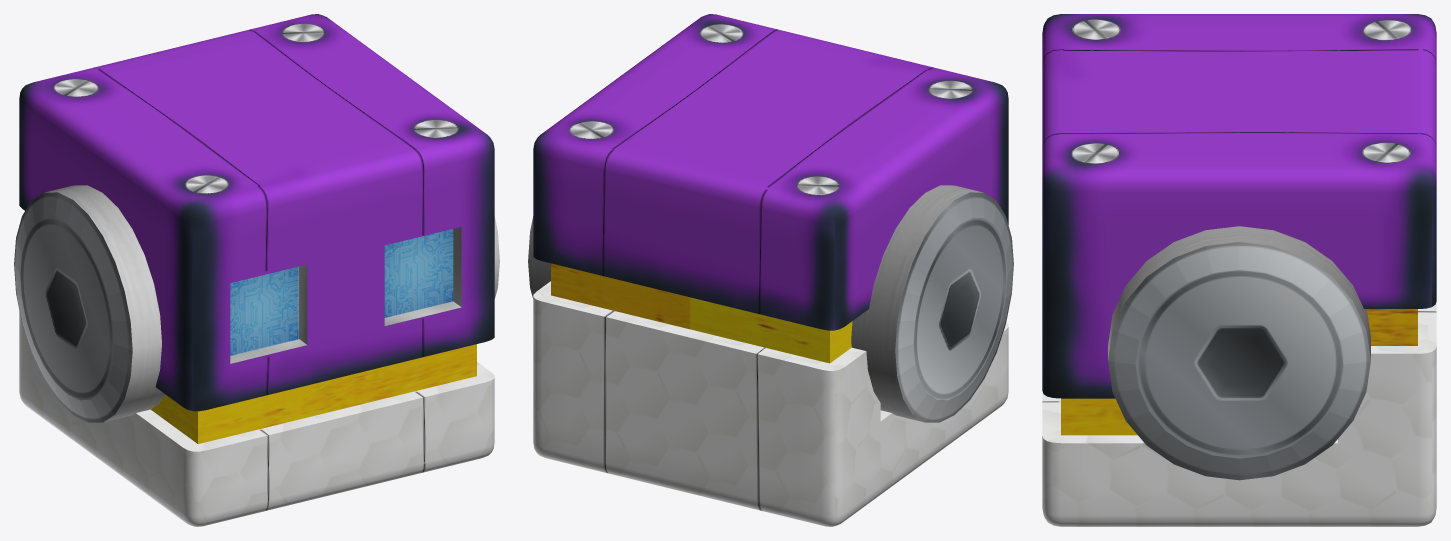
File: HeadCore_Purple.fbx
3 views of the same model, side by side, from view 1: azimuth 30°, elevation 25°; view 2: azimuth 150°, elevation 25°; view 3: azimuth 270°, elevation 25° (orthographic). The views are drawn at different scales.
Visible parts, largest first — view 1: Head_Core; view 2: Head_Core; view 3: Head_Core.
Boxes of the visible parts, x1,y1,x2,y2 form: Head_Core: (14,14,499,526); Head_Core: (528,14,1013,526); Head_Core: (1042,14,1436,526).
Size of the model in its own units: 258 by 210 by 210.
Materials: 1 (1 with a texture image).
